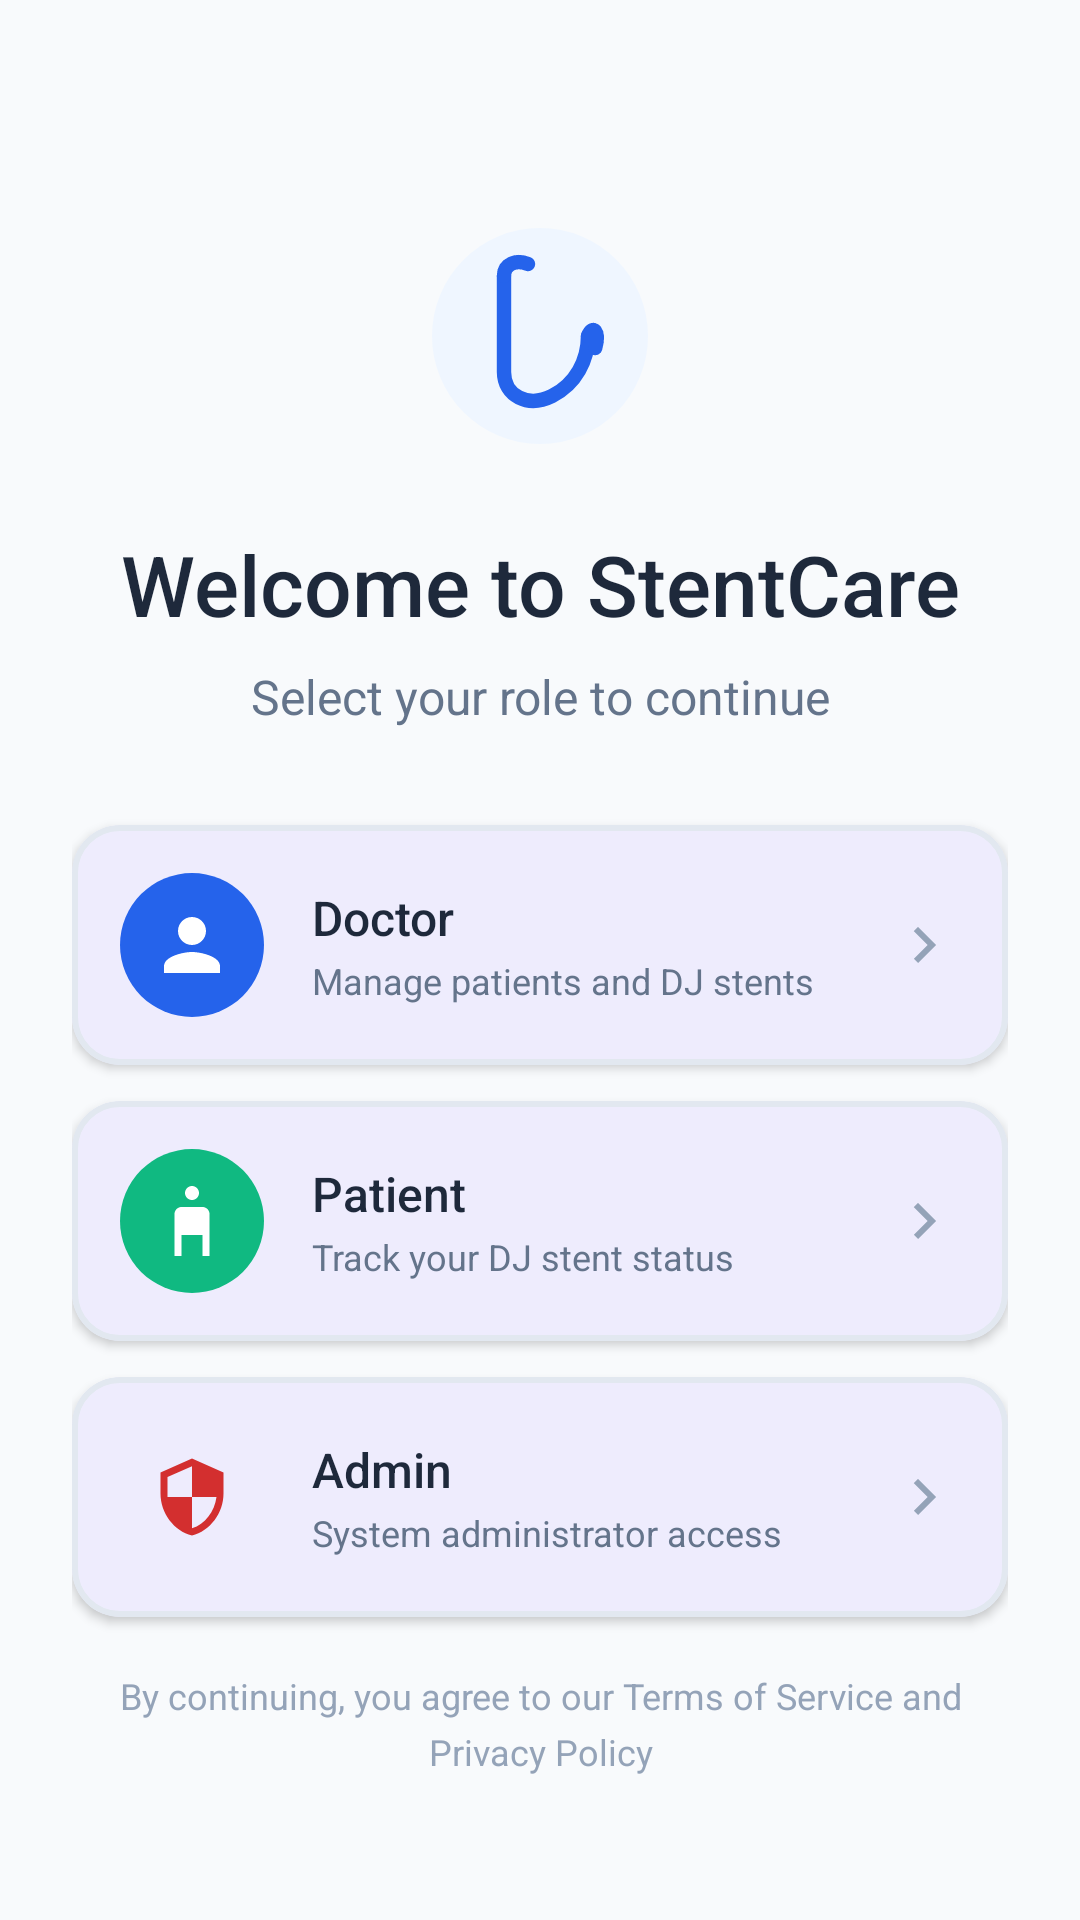

Screen size 1080×1920. Icon name, then its box in pixels as bbox=[x1, y1, x2, y2]:
arrow right: bbox=[914, 927, 936, 963], bbox=[914, 1203, 936, 1239], bbox=[914, 1479, 936, 1515]
